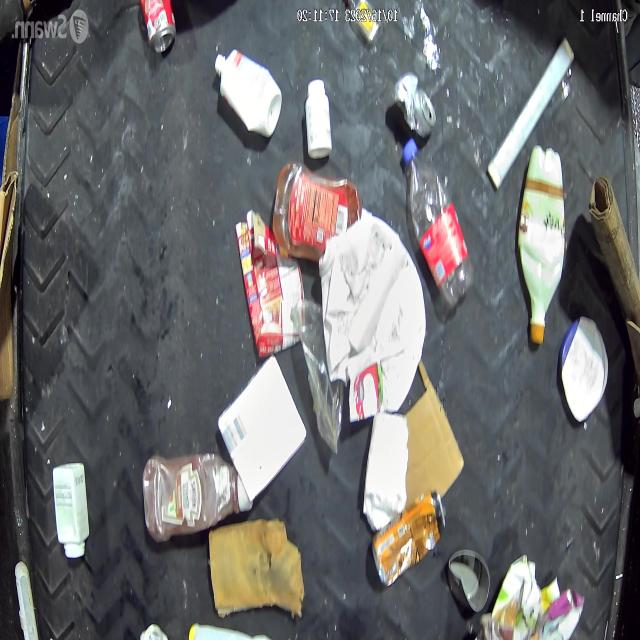can: (374, 490, 451, 584), (389, 75, 436, 126), (138, 0, 174, 50)
milk_jug: (326, 208, 418, 412)
plastic_bottle: (399, 140, 470, 294)
